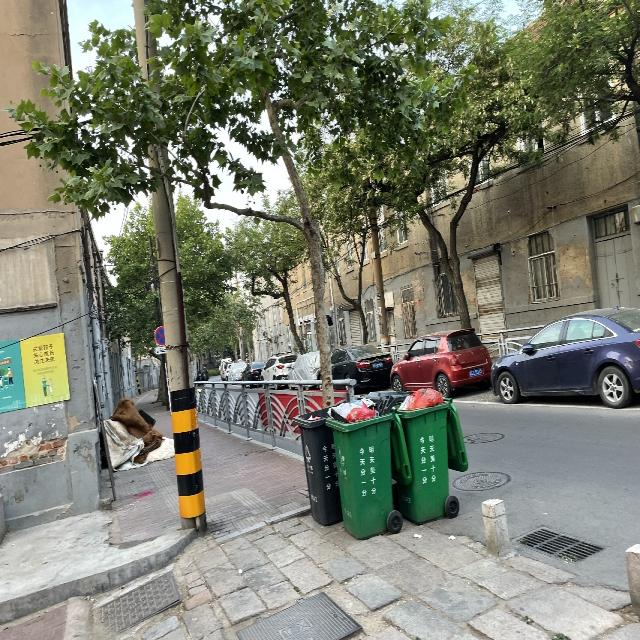garbage_bin: (293, 405, 341, 524)
overflow: (325, 397, 412, 540), (393, 388, 468, 524)
